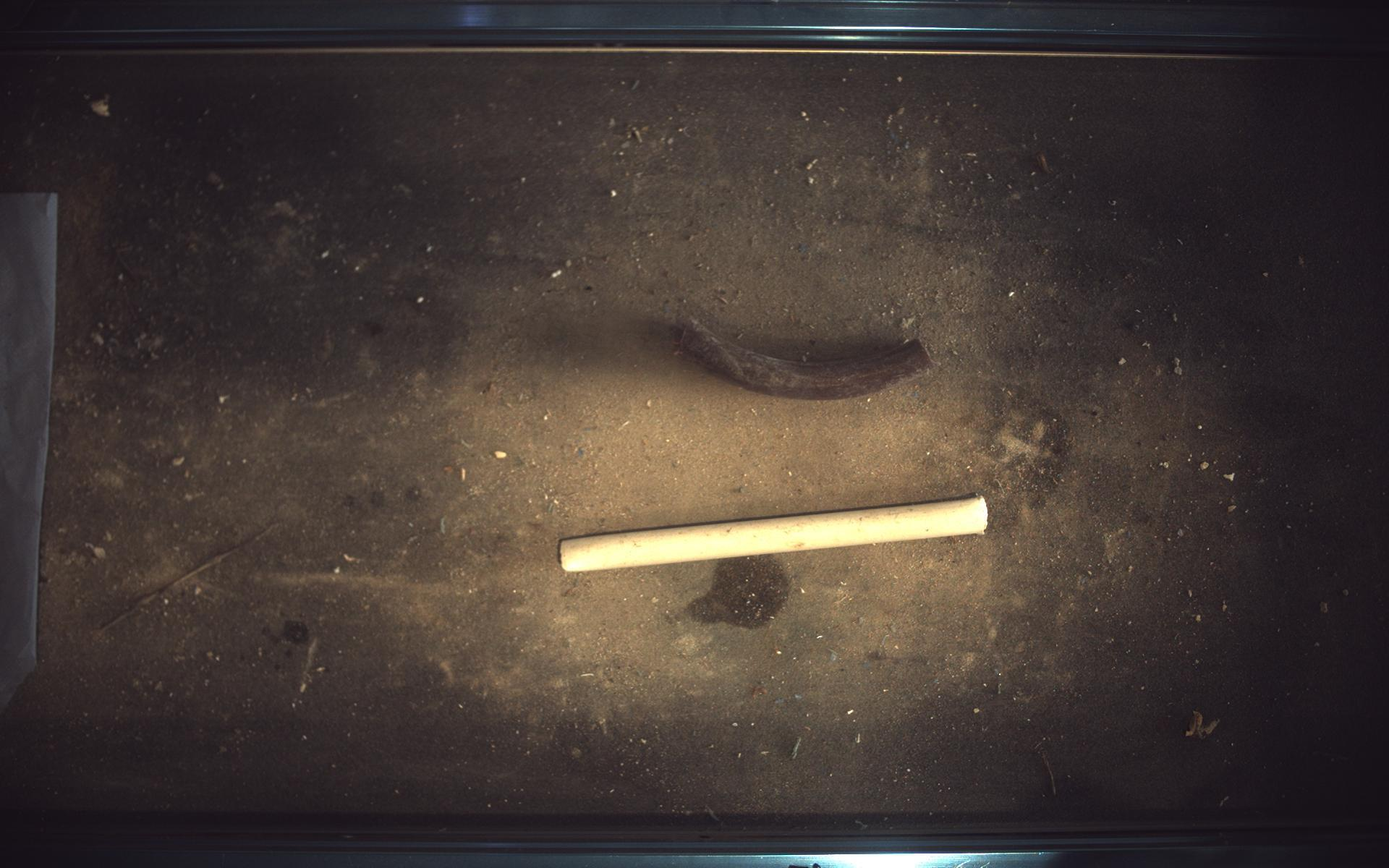pipes: (560, 496, 990, 573), (681, 318, 933, 399)
